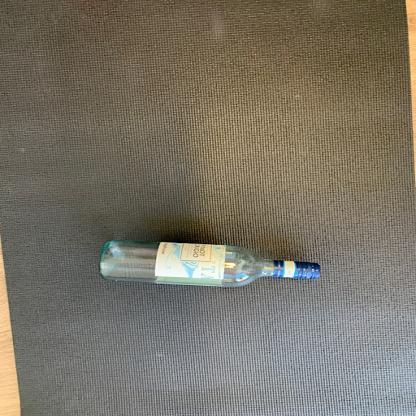trash: (95, 236, 324, 291)
